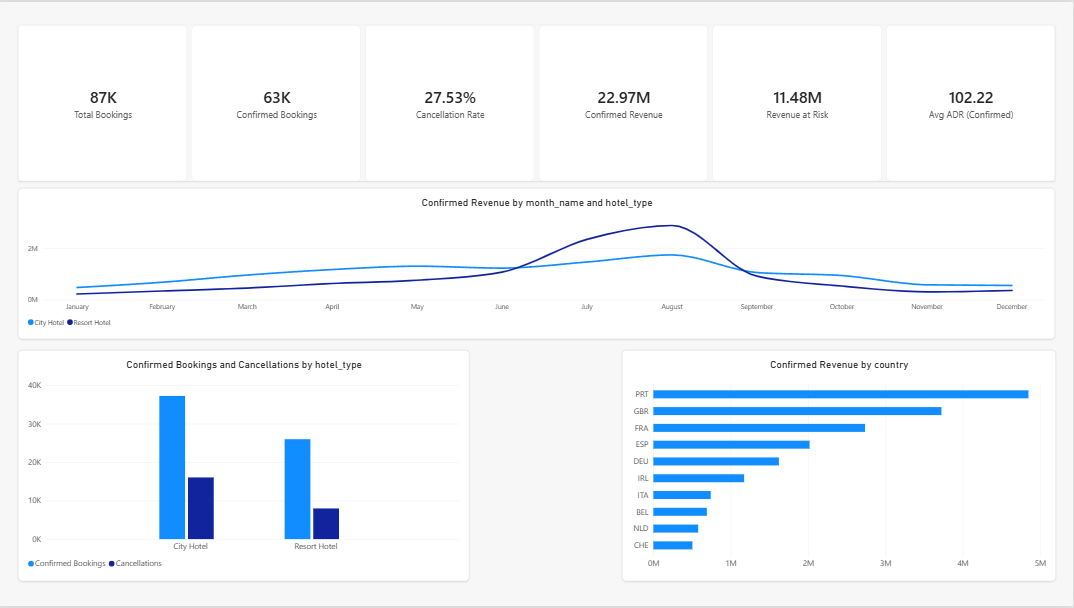

This screenshot's page, from the dashboard's own definition file:
{"tool":"powerbi","page":{"name":"Executive Overview","canvas":[1920,1080],"ordinal":0},"visuals":[{"type":"cardVisual","fields":{"Data":["Measures (2).Total Bookings","Measures (2).Confirmed Bookings","Measures (2).Cancellation Rate","Measures (2).Confirmed Revenue","Measures (2).Revenue at Risk","Measures (2).Avg ADR (Confirmed)"]},"box":[36.5,41.3,1852.4,279.4],"z":0},{"type":"lineChart","fields":{"Category":["dim_date.month_name"],"Series":["dim_hotel.hotel_type"],"Y":["Measures (2).Confirmed Revenue"]},"box":[36.5,331.7,1852.4,269.8],"z":1000},{"type":"clusteredColumnChart","fields":{"Category":["dim_hotel.hotel_type"],"Y":["Measures (2).Confirmed Bookings","Measures (2).Cancellations"]},"box":[36.5,622.2,806.3,412.7],"z":2000},{"type":"clusteredBarChart","fields":{"Category":["dim_country.country"],"Y":["Measures (2).Confirmed Revenue"]},"box":[1114.3,622.2,774.6,412.7],"z":3000}]}

Visuals, with their boxes in screenshot pixels (x1, y1, x2, y2), scaled from the page's 1920x1080 canvas onto the 1074x608 screenshot:
cardVisual - Measures (2).Total Bookings x Measures (2).Confirmed Bookings: 20/23/1057/181
lineChart - dim_date.month_name x dim_hotel.hotel_type: 20/187/1057/339
clusteredColumnChart - dim_hotel.hotel_type x Measures (2).Confirmed Bookings: 20/350/471/583
clusteredBarChart - dim_country.country x Measures (2).Confirmed Revenue: 623/350/1057/583
